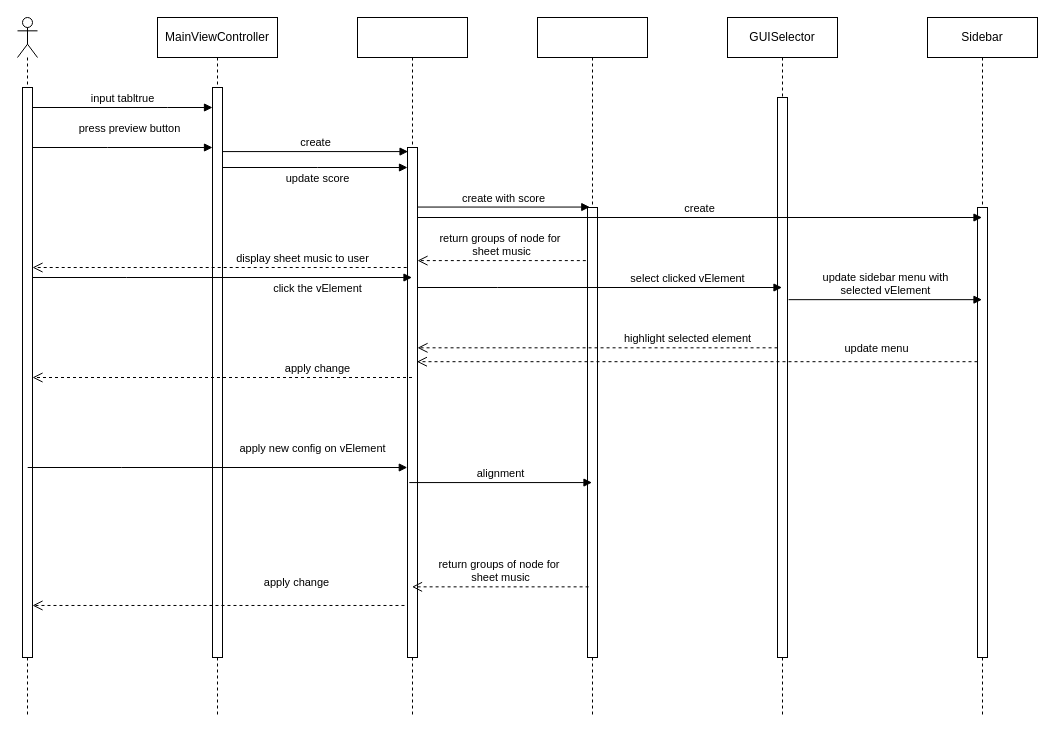
This 1055x735 diagram has some shape labels left out. The shapes that lost their labels are listed below. From the top down, each one's box as (x1, y1, x2, y2) in pixels, then its label:
(356, 16, 468, 718): PreviewController
(536, 16, 648, 718): Visualizer
